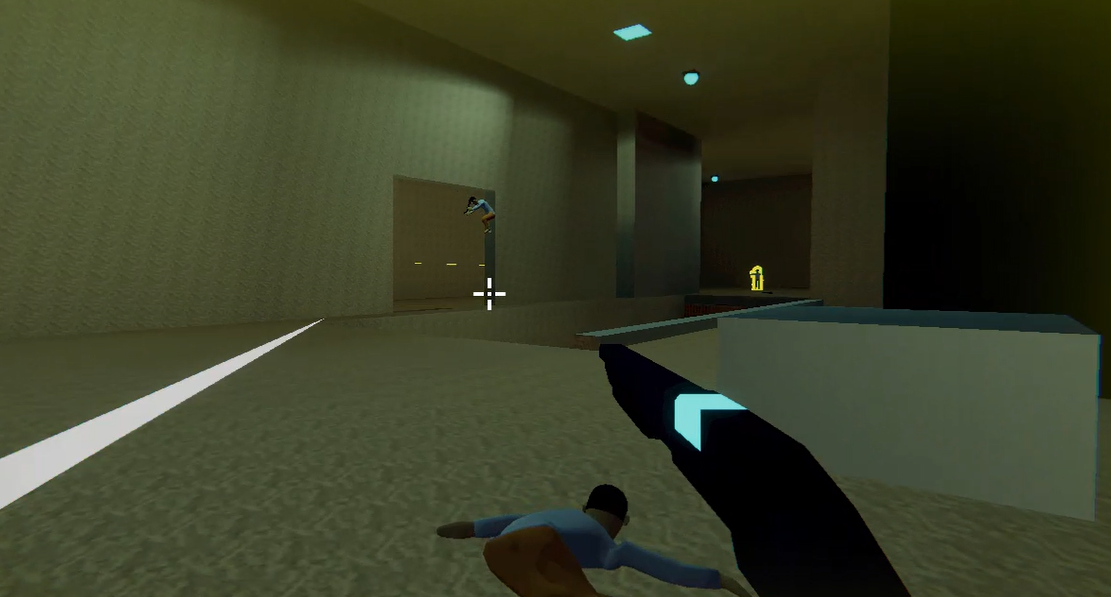human: (468, 186, 496, 231), (747, 259, 768, 296)
